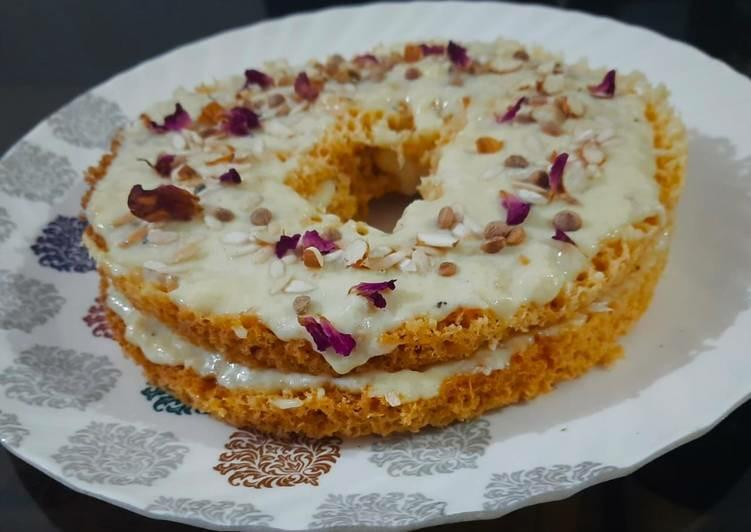Ghevar: (80, 34, 687, 376), (100, 200, 671, 438)
